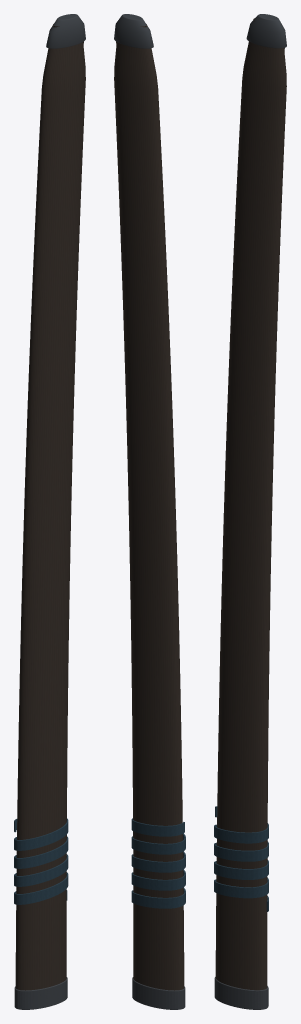
File: SM_Saya.glb
3 renders of one model, left to right at view 1: azimuth 30°, elevation 25°; view 2: azimuth 150°, elevation 25°; view 3: azimuth 330°, elevation 25°, orthographic.
Parts seen in each view (by area): view 1: SAYA_LacquerShell, SAYA_SageoWrap, SAYA_Koiguchi, SAYA_Kojiri; view 2: SAYA_LacquerShell, SAYA_SageoWrap, SAYA_Koiguchi, SAYA_Kojiri; view 3: SAYA_LacquerShell, SAYA_SageoWrap, SAYA_Koiguchi, SAYA_Kojiri.
Part boxes in pixels (x1,y1,x2,y2): SAYA_LacquerShell: (15,24,85,990); SAYA_SageoWrap: (14,818,68,904); SAYA_Koiguchi: (14,977,67,1009); SAYA_Kojiri: (46,14,85,48); SAYA_LacquerShell: (114,24,184,990); SAYA_SageoWrap: (131,818,185,908); SAYA_Koiguchi: (132,977,185,1009); SAYA_Kojiri: (114,14,153,48); SAYA_LacquerShell: (215,18,286,990); SAYA_SageoWrap: (214,806,268,911); SAYA_Koiguchi: (214,977,268,1009); SAYA_Kojiri: (246,14,286,48).
Bounding box in the file's own units: 0.0572 × 0.761 × 0.0204.
Materials: 3 (3 with a texture image).
